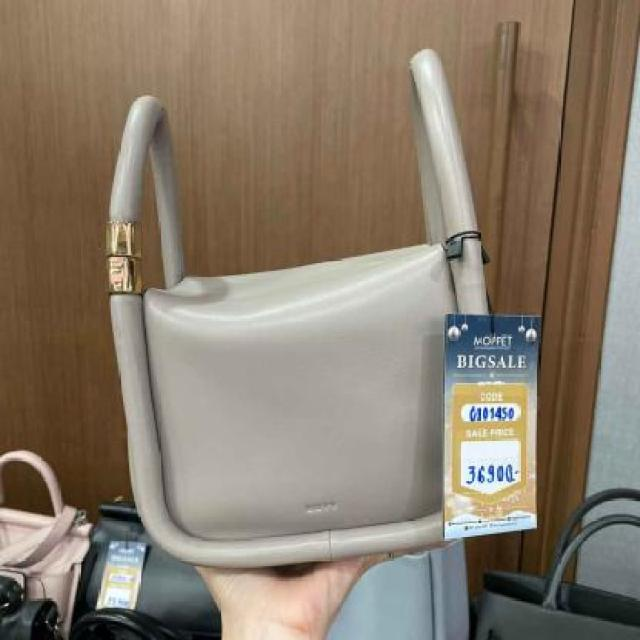Bag: (72, 32, 548, 617)
